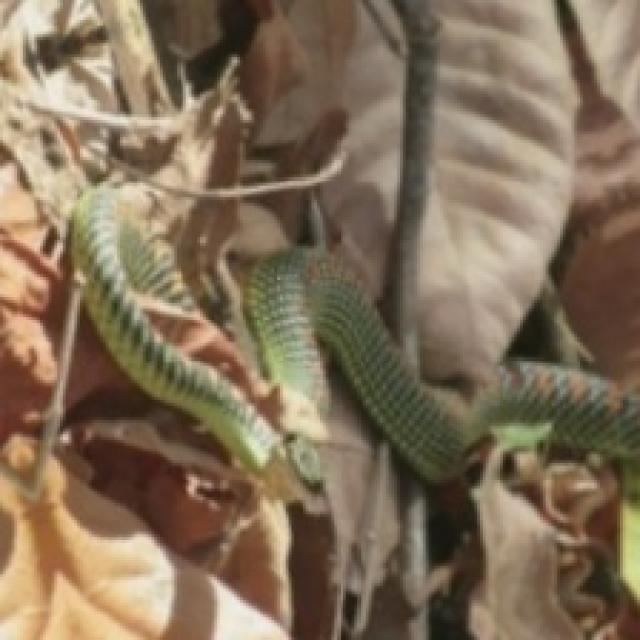paradise tree snake: (71, 183, 580, 483)
